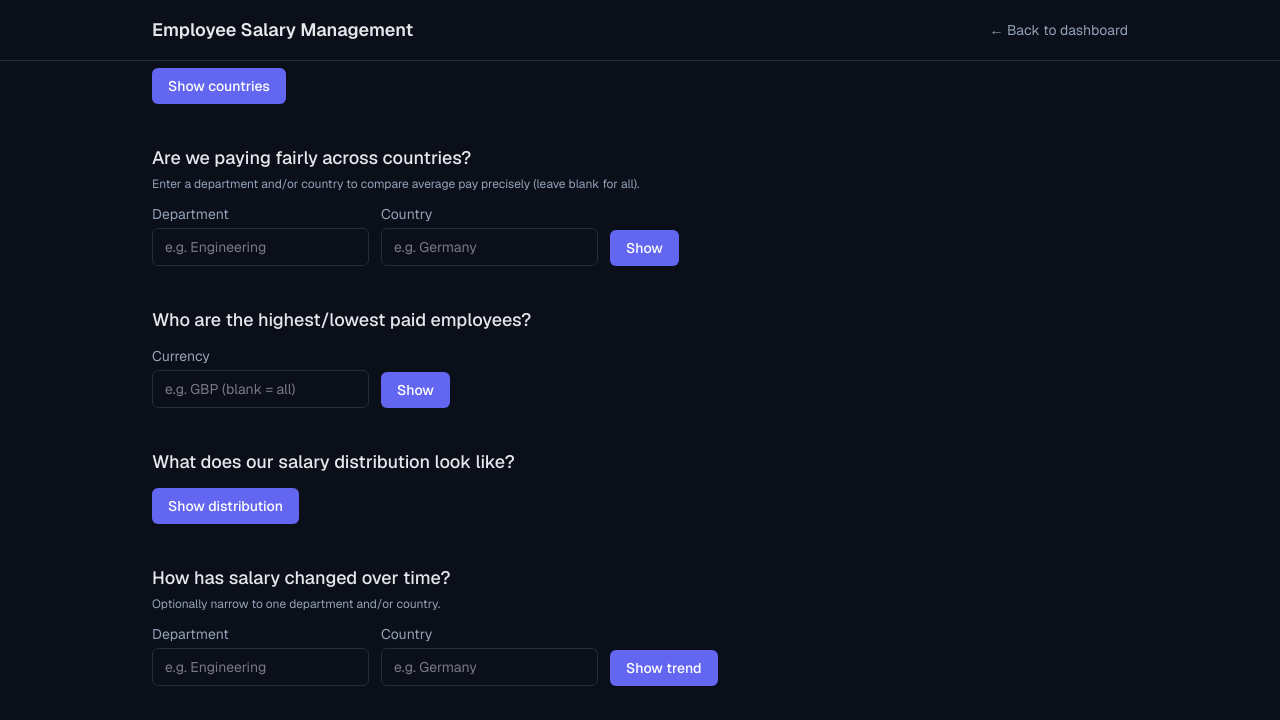
Test: ReportsPage › fetches top/bottom earners for the typed currency
This screenshot has width=1280, height=720.
(page scrolled)
Click the button "Show" below "Currency" at coordinates (415, 390), box [381,372,450,408]
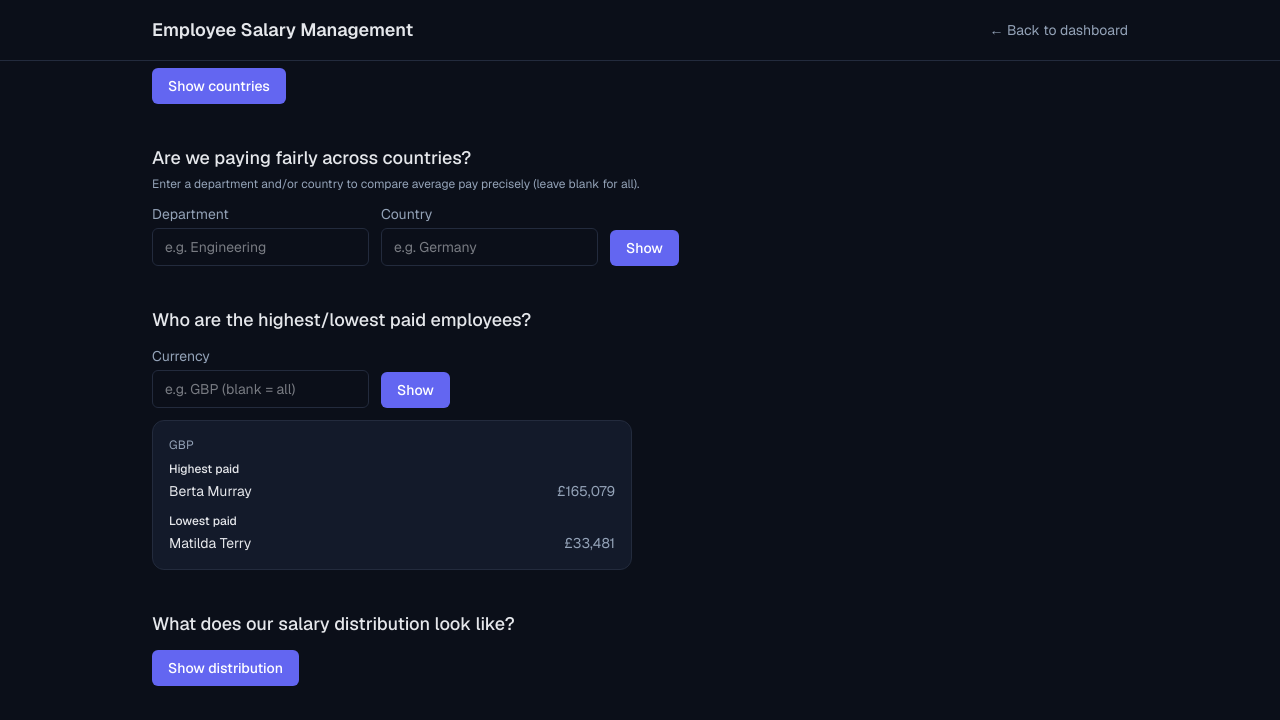
Check: the text "Berta Murray" is shown, box [169,481,252,501]
Check: the text "Matilda Terry" is shown, box [169,533,251,553]
